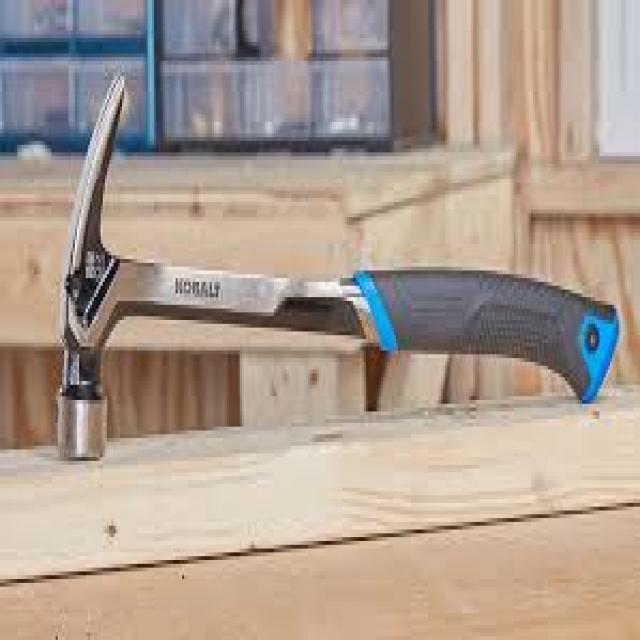hammer: (58, 70, 628, 474)
